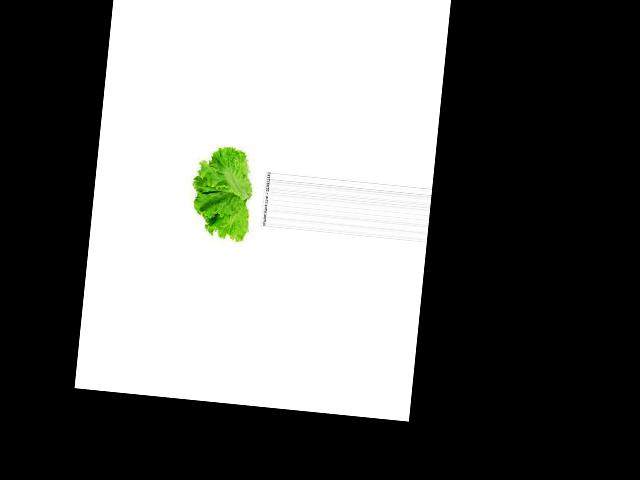lettuce: (178, 134, 269, 255)
